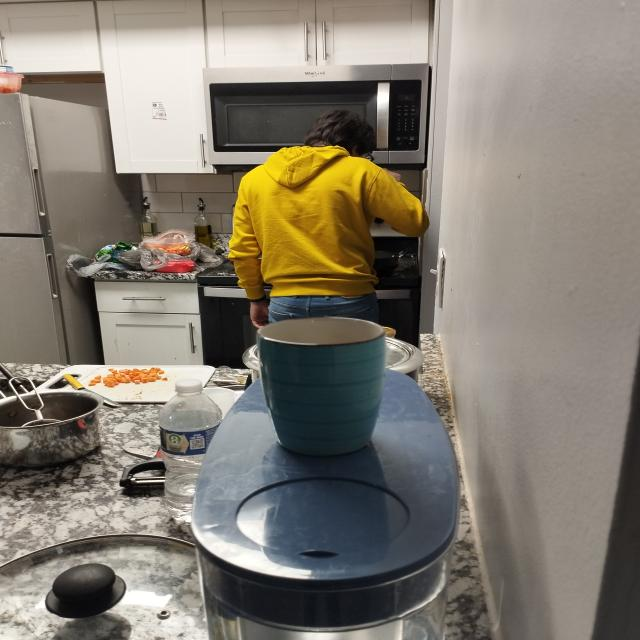Cup: (213, 294, 448, 467)
